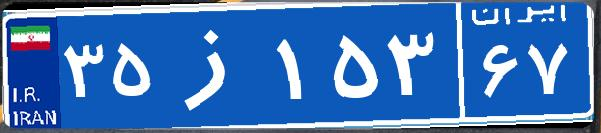1: (273, 28, 330, 110)
3: (385, 28, 445, 110), (57, 26, 110, 107)
5: (330, 28, 385, 110), (110, 28, 158, 105)
6: (475, 38, 525, 113)
7: (525, 38, 570, 115)
ز: (158, 15, 273, 115)
